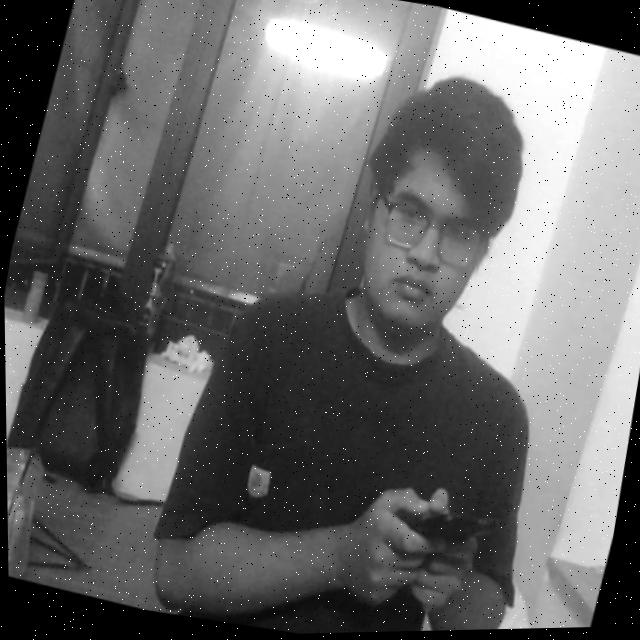phone: (373, 469, 503, 582)
